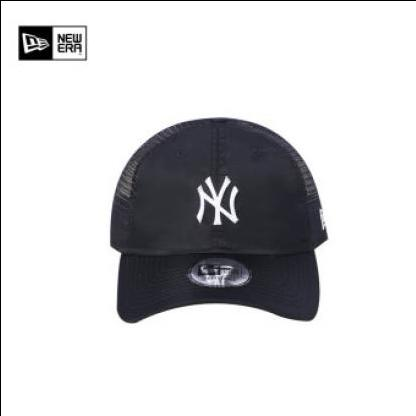cap: (94, 109, 334, 333)
